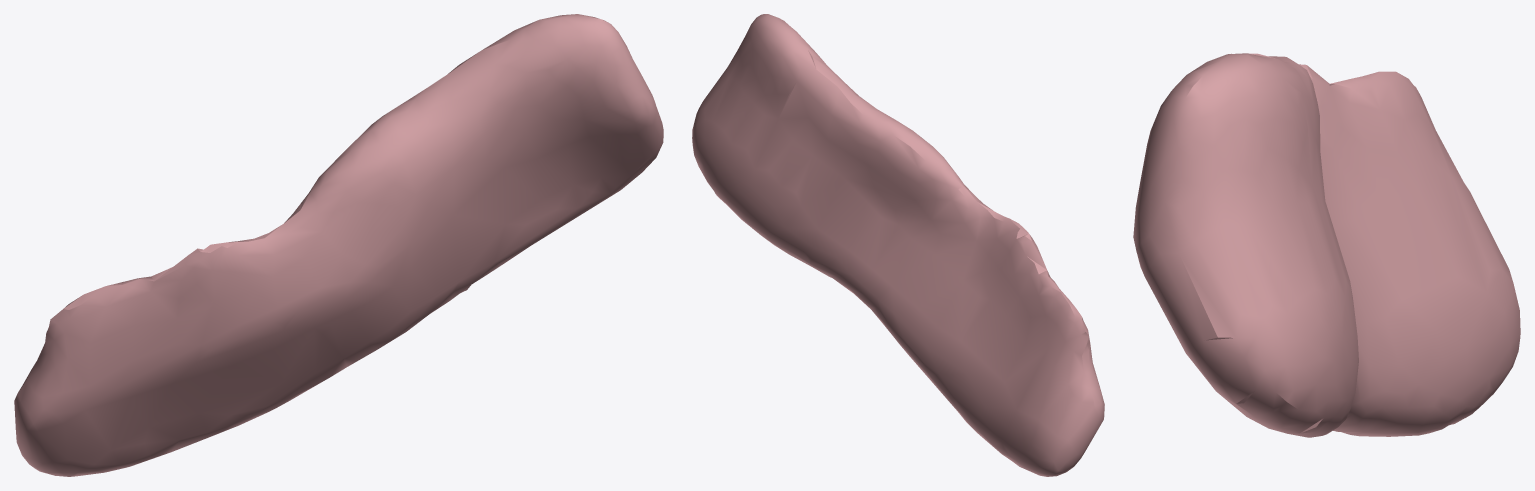
The model's file is fma275542_mm3839.glb.
3 renders of one model, left to right at view 1: azimuth 30°, elevation 25°; view 2: azimuth 150°, elevation 25°; view 3: azimuth 270°, elevation 25°, orthographic. The views are drawn at different scales.
Parts seen in each view (by area): view 1: FMA275542_MM3839; view 2: FMA275542_MM3839; view 3: FMA275542_MM3839.
Part boxes in pixels (box(x1,y1,x2,y2)): FMA275542_MM3839: box(14, 14, 663, 476); FMA275542_MM3839: box(692, 14, 1104, 476); FMA275542_MM3839: box(1133, 53, 1520, 437).
Size of the model in its own units: 0.0217 by 0.0149 by 0.00802.
